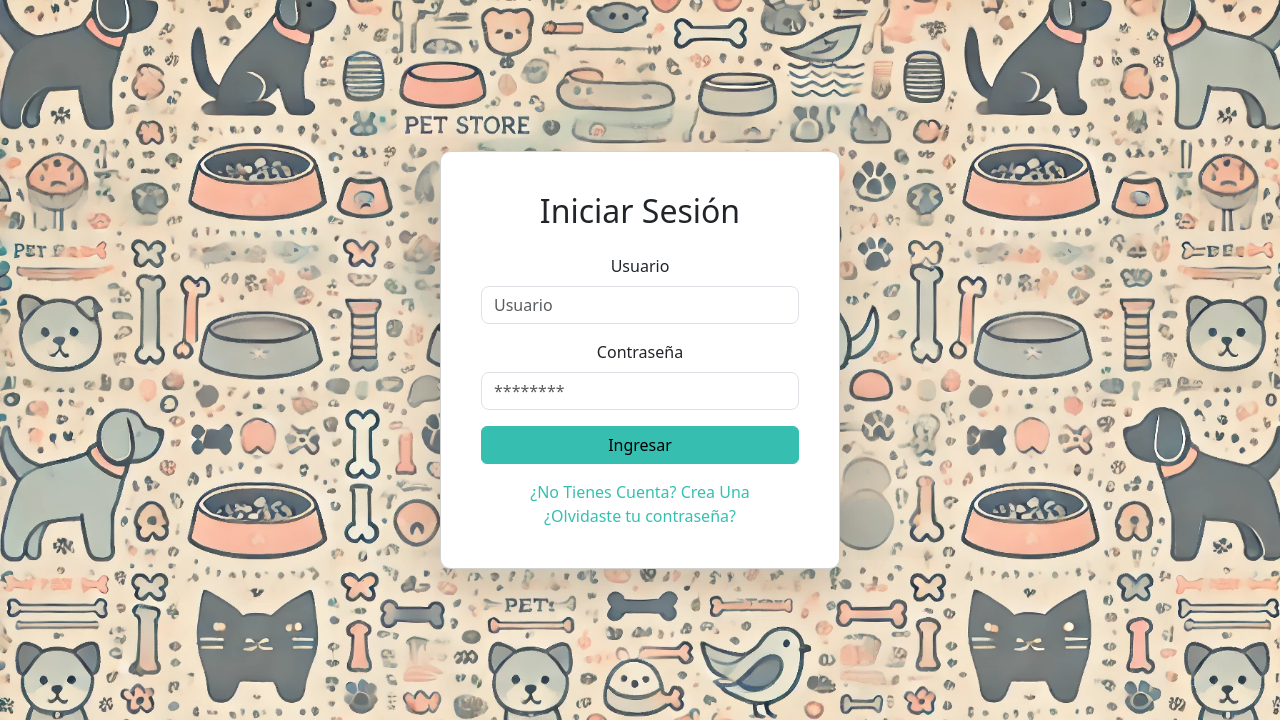
Test: LoginView.vue › Muestra una alerta si el inicio de sesión falla
In the field with placeholder "Usuario": (640, 305) [481,286,799,324], type "usuarioErroneo"
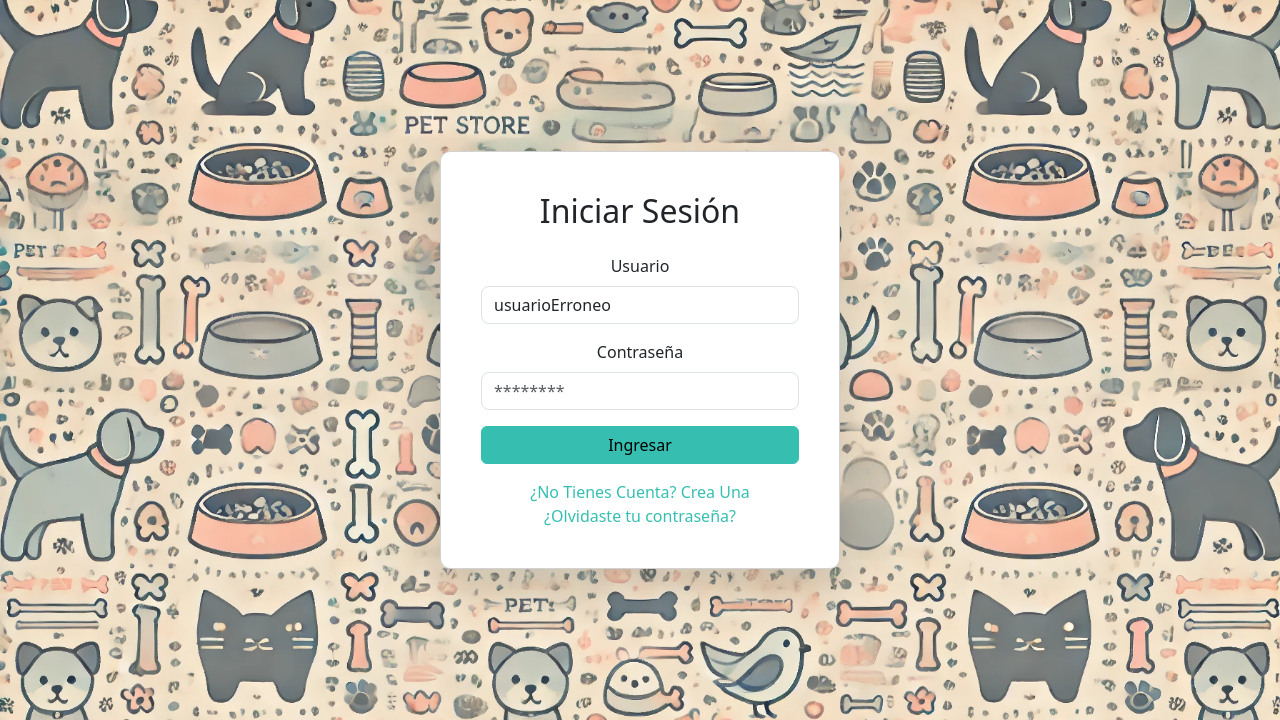
In the password field labelled "Contraseña": (640, 391) [481,372,799,410], type "contraseñaErronea"
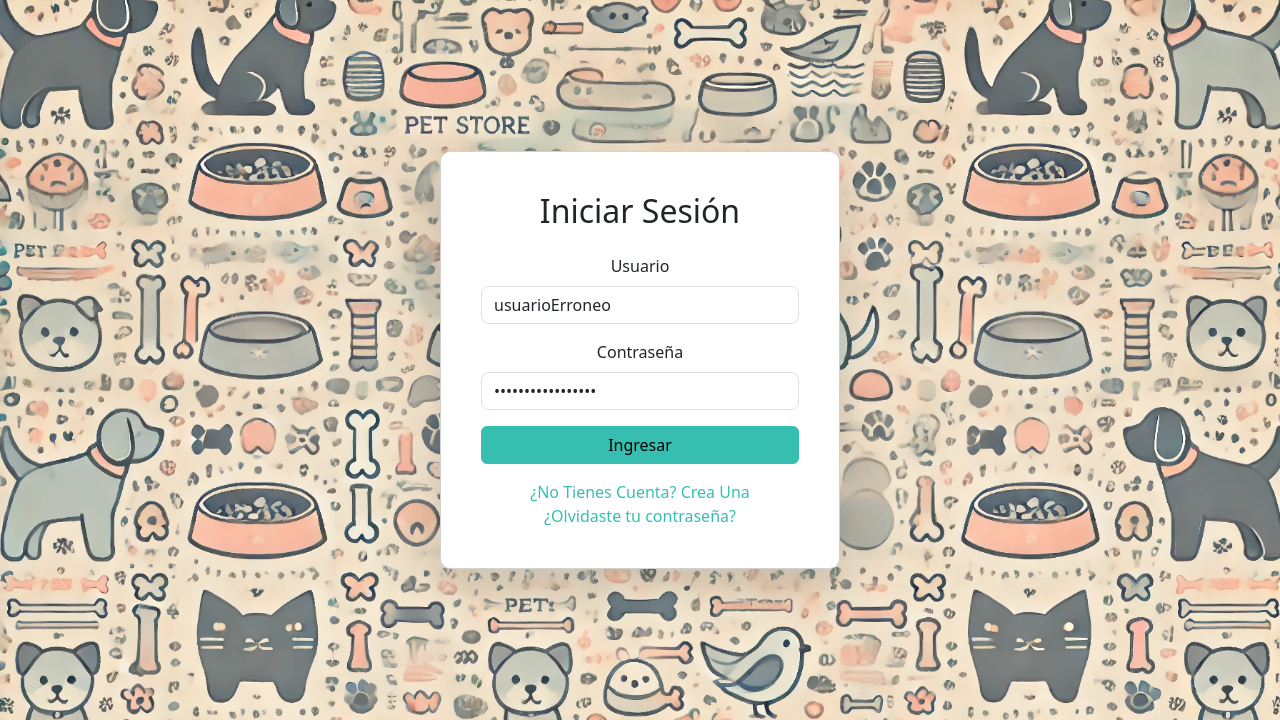
Submit the form, box [481,254,799,464]
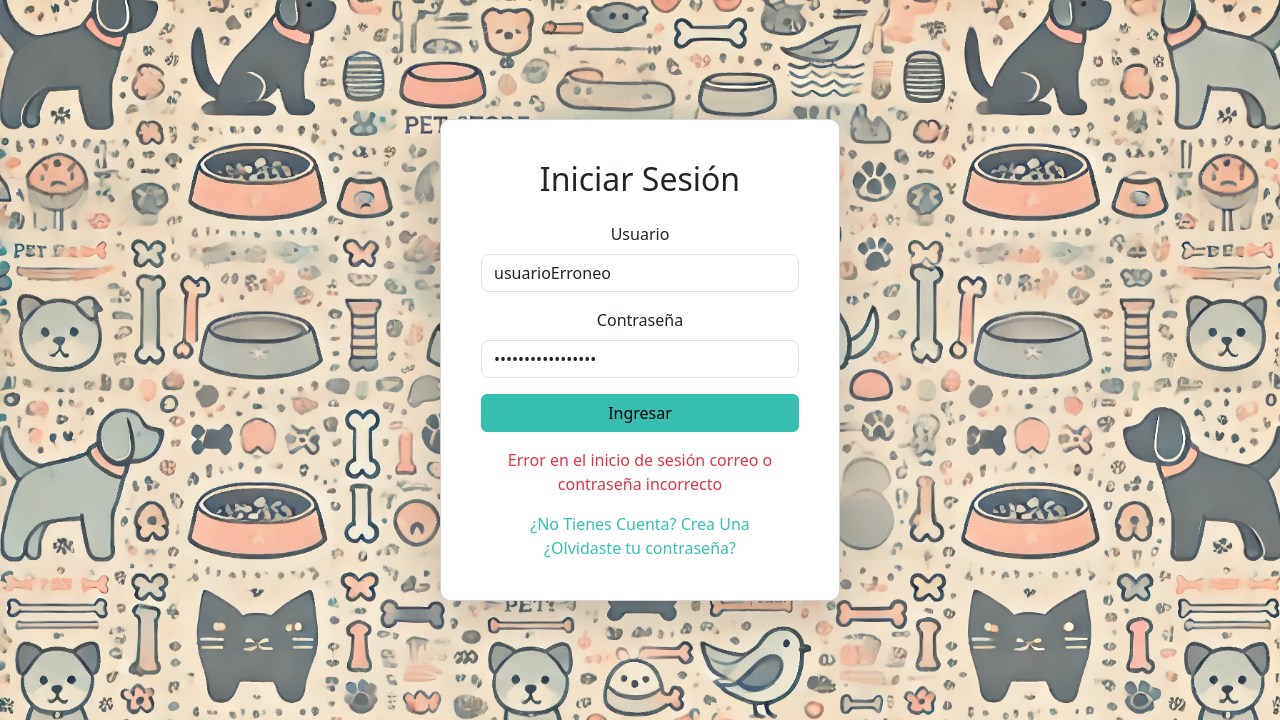
Now the text "Error en el inicio de sesión correo o contraseña incorrecto" is shown, box [508,449,772,495]
